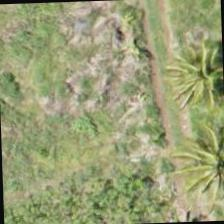Kelapa_Sawit: (160, 34, 224, 127), (171, 127, 223, 221)
